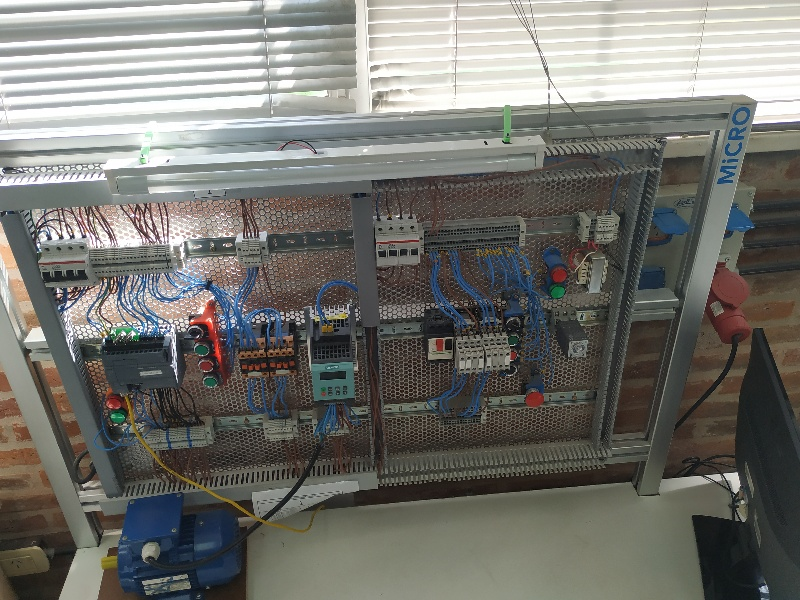Tablero 1: (35, 178, 629, 468)
